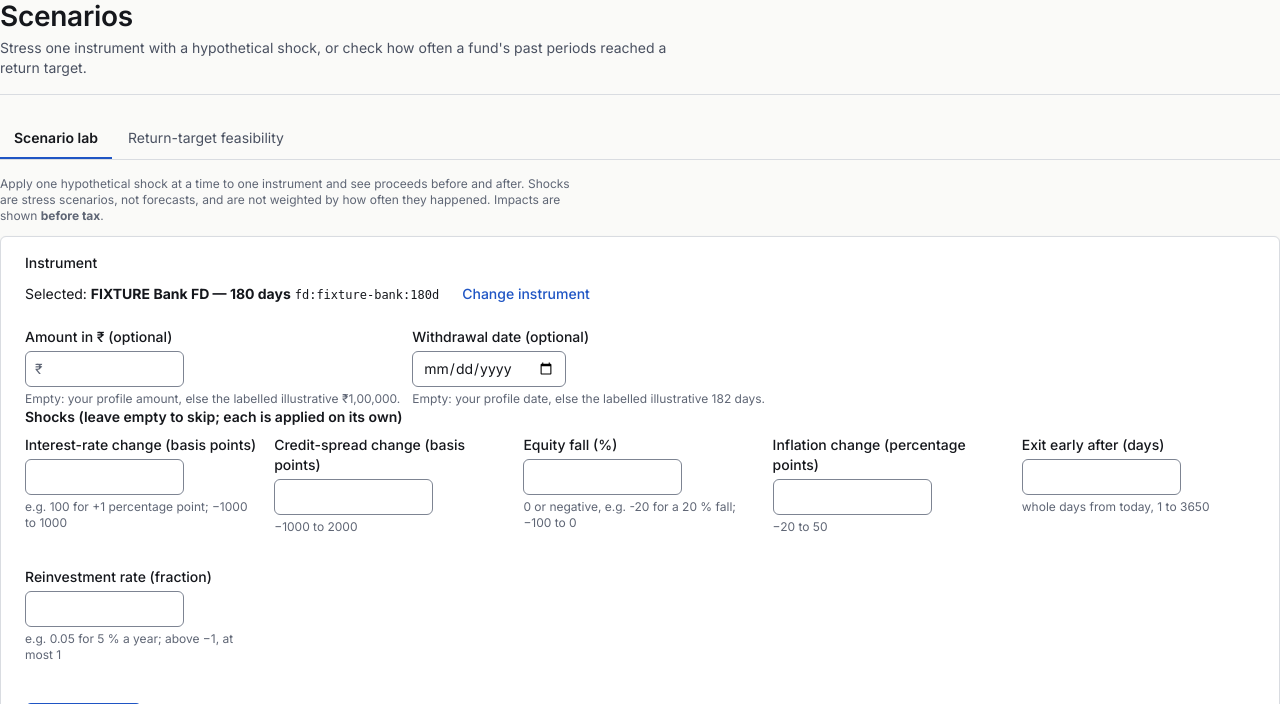
Scenario lab › not_applicable shocks render as text with their reason, never as 0
Type "100" into the field labelled "Interest-rate change (basis points)" at (104, 477), box [25,459,184,495]
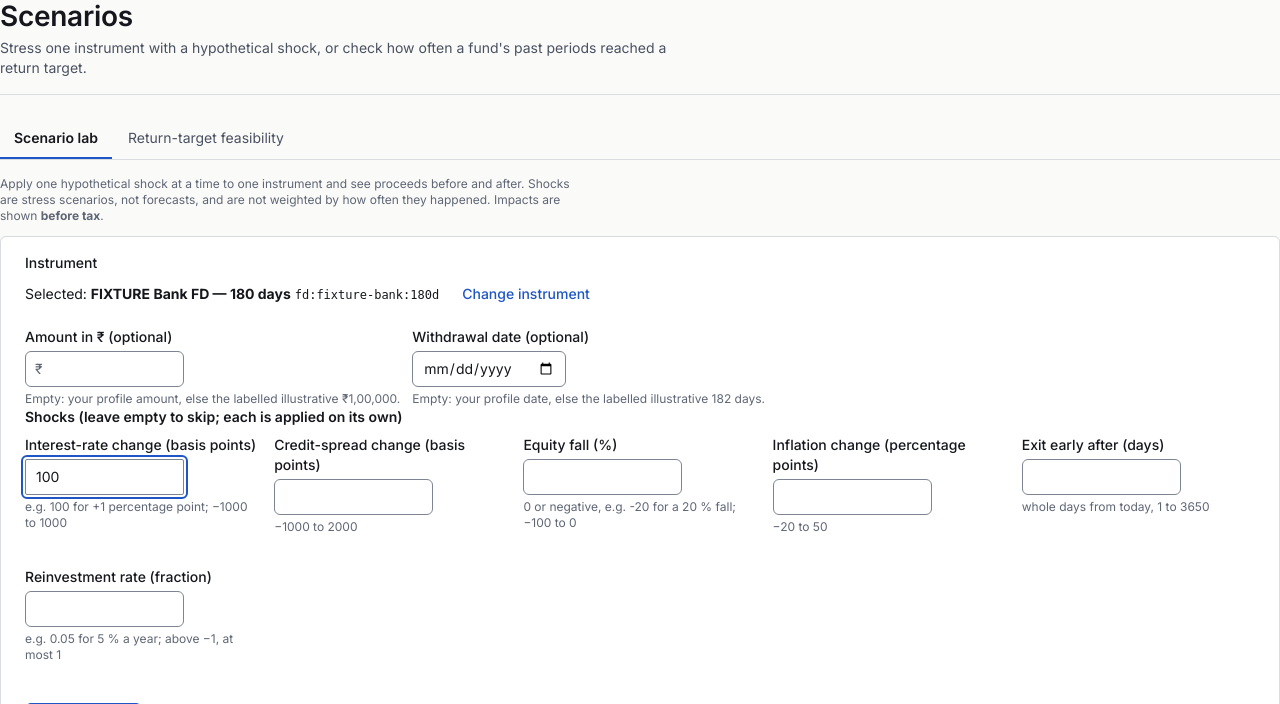
Type "-20" into the field labelled "Equity fall (%)" at (603, 477), box [523,459,682,495]
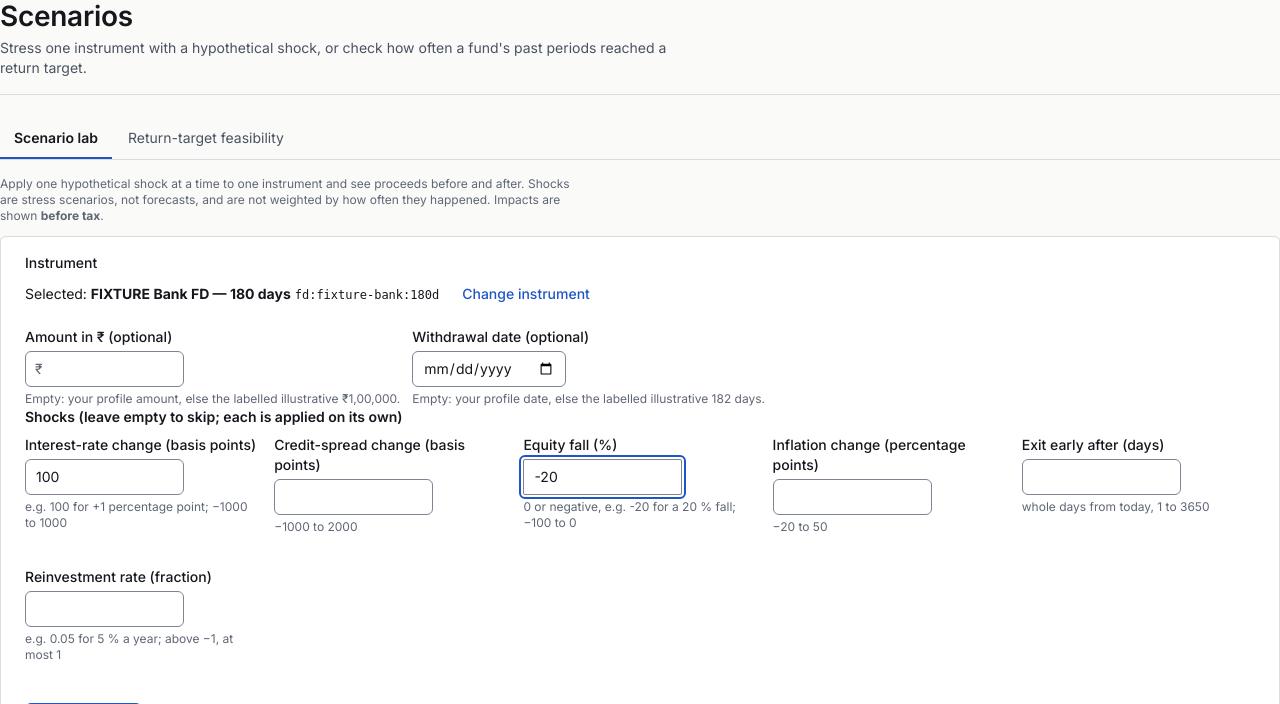
Type "2027-04-15" into the date field labelled "Withdrawal date (optional)" at (489, 369), box [412,351,566,387]
(page scrolled)
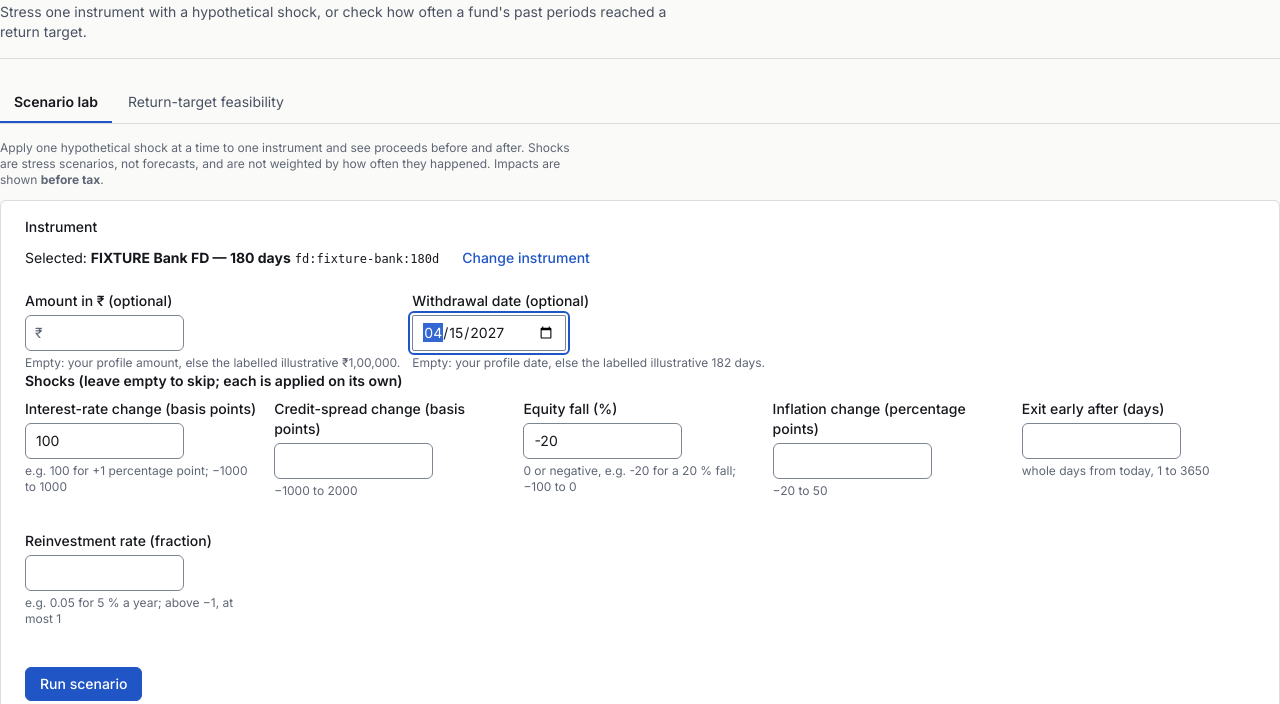
Click the button "Run scenario" at (84, 684), box [25,667,142,701]
(page scrolled)
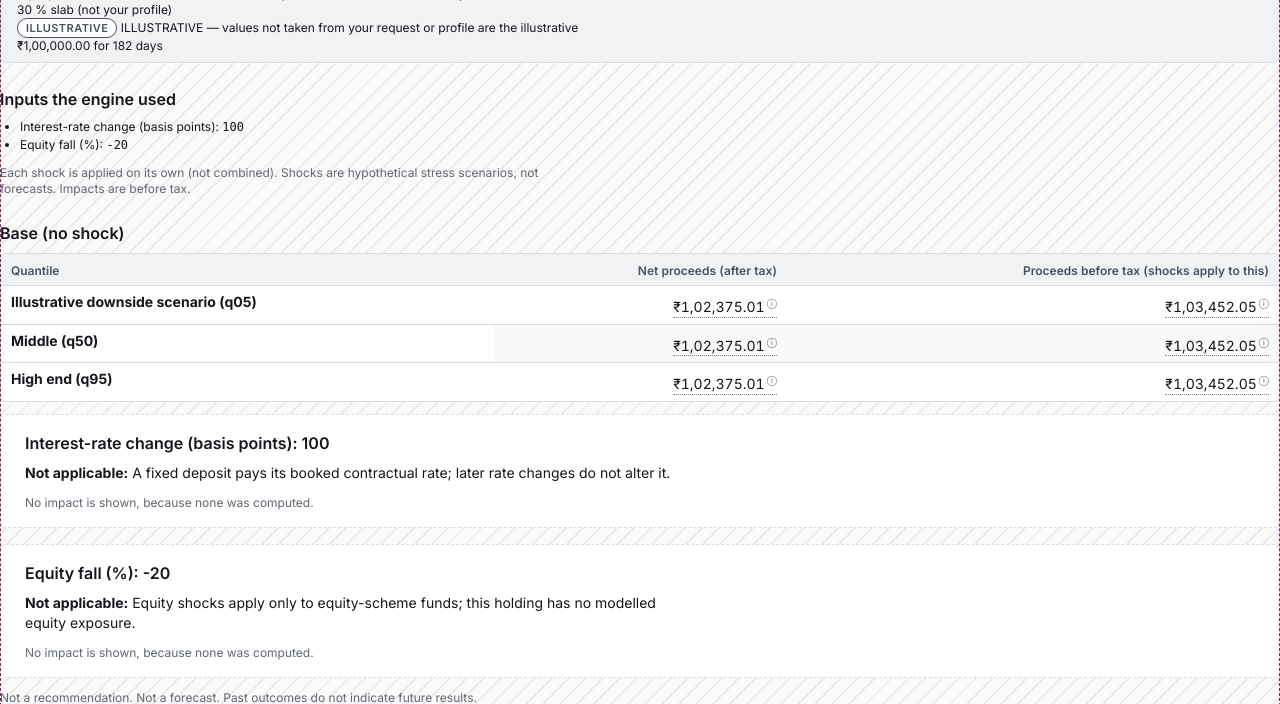
Expected: the heading "Base (no shock)" is shown, [0,223,124,243]
Expected: the element that starts with "Interest-rate change (basis points): 100" shows "Not applicable: A fixed deposit pays its booked contractual rate; later rate changes do not alter it.", [0,414,1279,528]
Expected: the element that starts with "Equity fall (%): -20" shows "Not applicable: Equity shocks apply only to equity-scheme funds", [0,544,1279,678]
